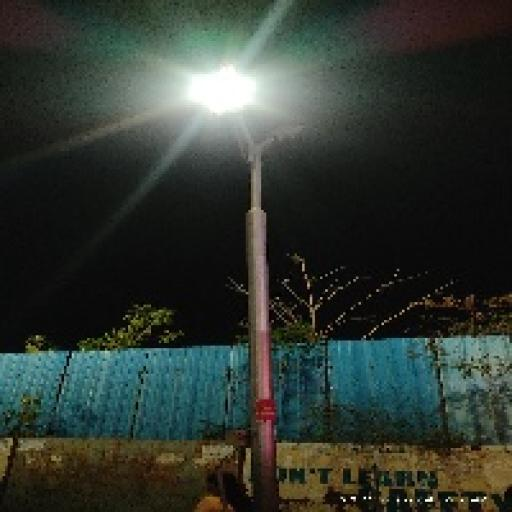Working: (175, 59, 266, 127)
